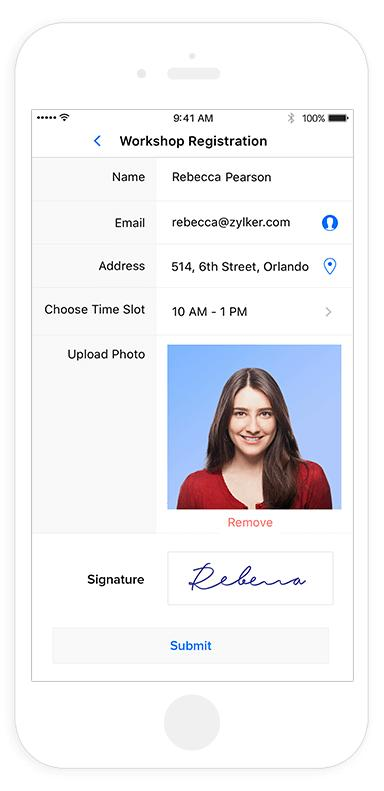button: (44, 627, 333, 665)
textbox: (158, 150, 357, 200), (163, 249, 349, 285), (153, 209, 348, 242)
